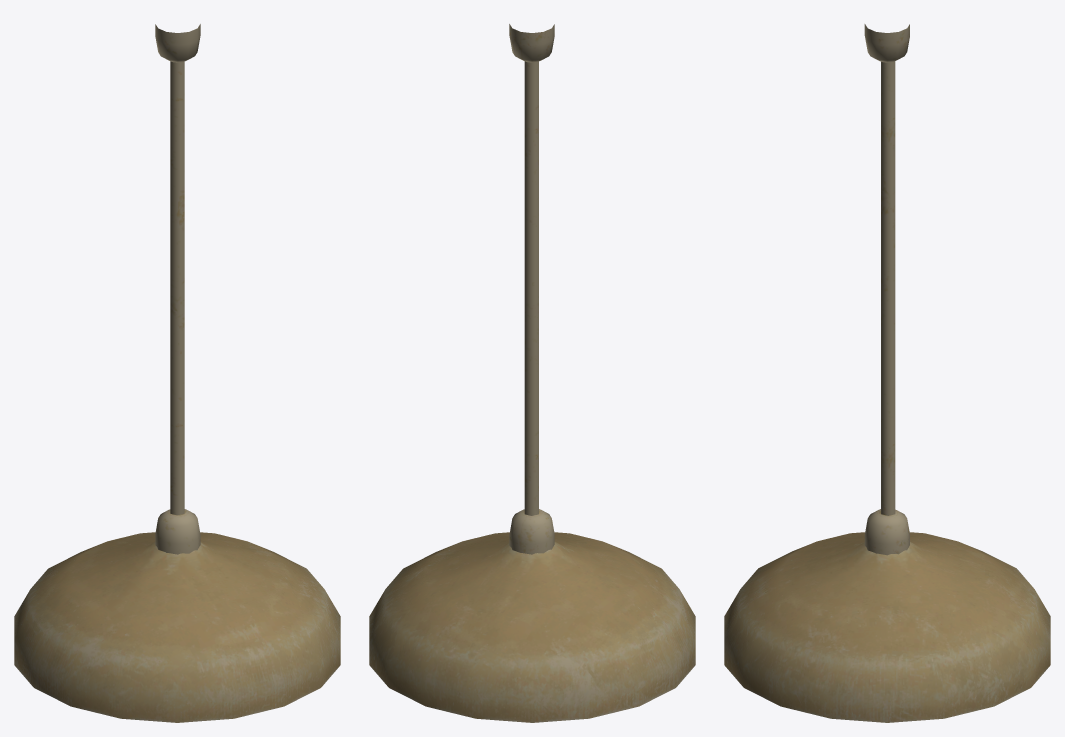
The model's file is SM_electric_props_04.glb.
The picture shows the model from 3 angles, left to right: view 1: azimuth 30°, elevation 25°; view 2: azimuth 150°, elevation 25°; view 3: azimuth 270°, elevation 25°; orthographic projection.
Parts seen in each view (by area): view 1: SM_electric_props_04; view 2: SM_electric_props_04; view 3: SM_electric_props_04.
Part boxes in pixels (x1,y1,x2,y2): SM_electric_props_04: (14, 24, 340, 722); SM_electric_props_04: (369, 24, 695, 722); SM_electric_props_04: (724, 24, 1050, 722).
Size of the model in its own units: 1 by 2.09 by 0.9848.
2 materials, 1 textured.
